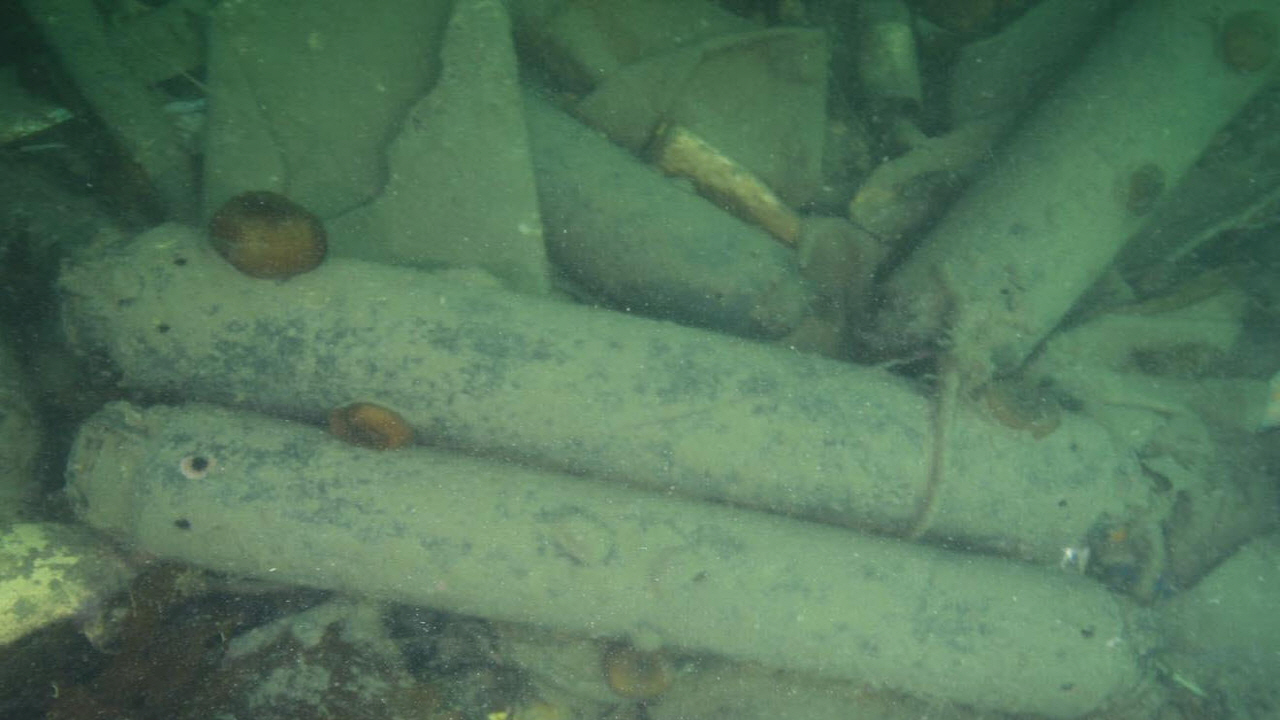bundle of ropes: (865, 248, 1041, 545)
eel fish trap: (57, 220, 1115, 567), (62, 400, 1144, 720), (872, 0, 1280, 372)
